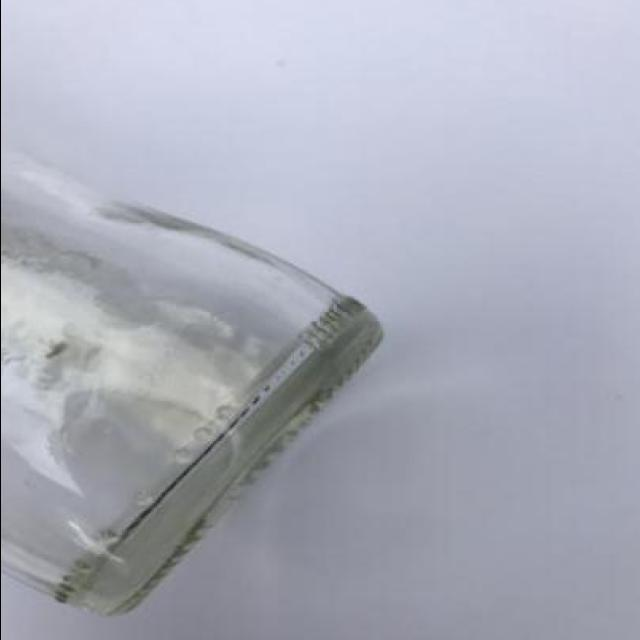kaca: (0, 132, 389, 613)
